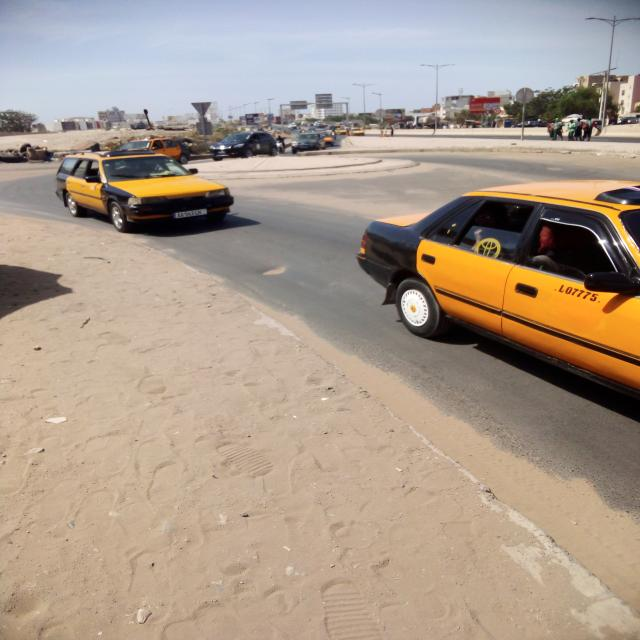particulier: (211, 132, 279, 162), (293, 134, 326, 155)
taxi: (358, 181, 640, 397), (56, 151, 234, 234), (121, 140, 189, 165), (321, 132, 338, 147), (351, 129, 366, 137)
